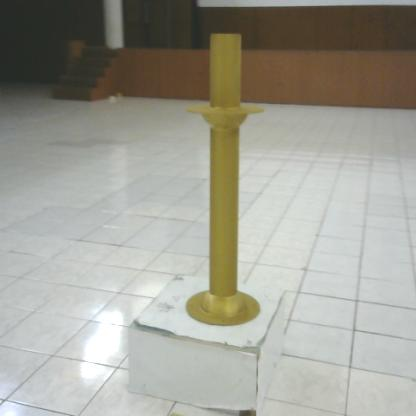pole: (178, 25, 267, 336)
